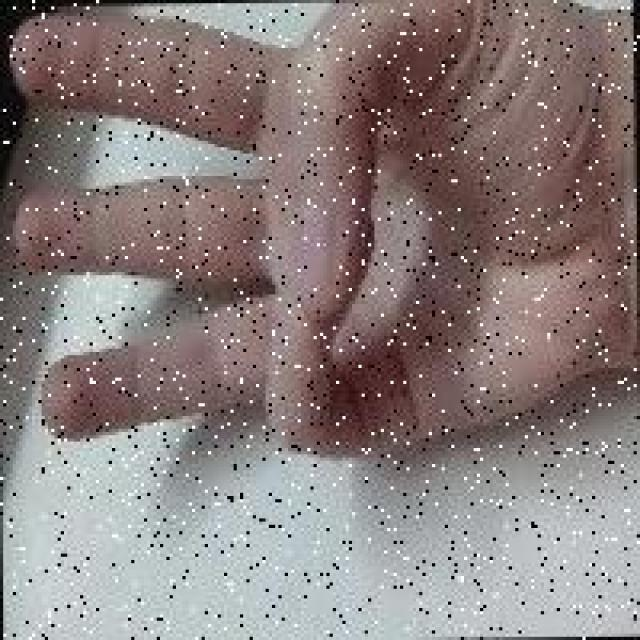W: (157, 0, 640, 630)
